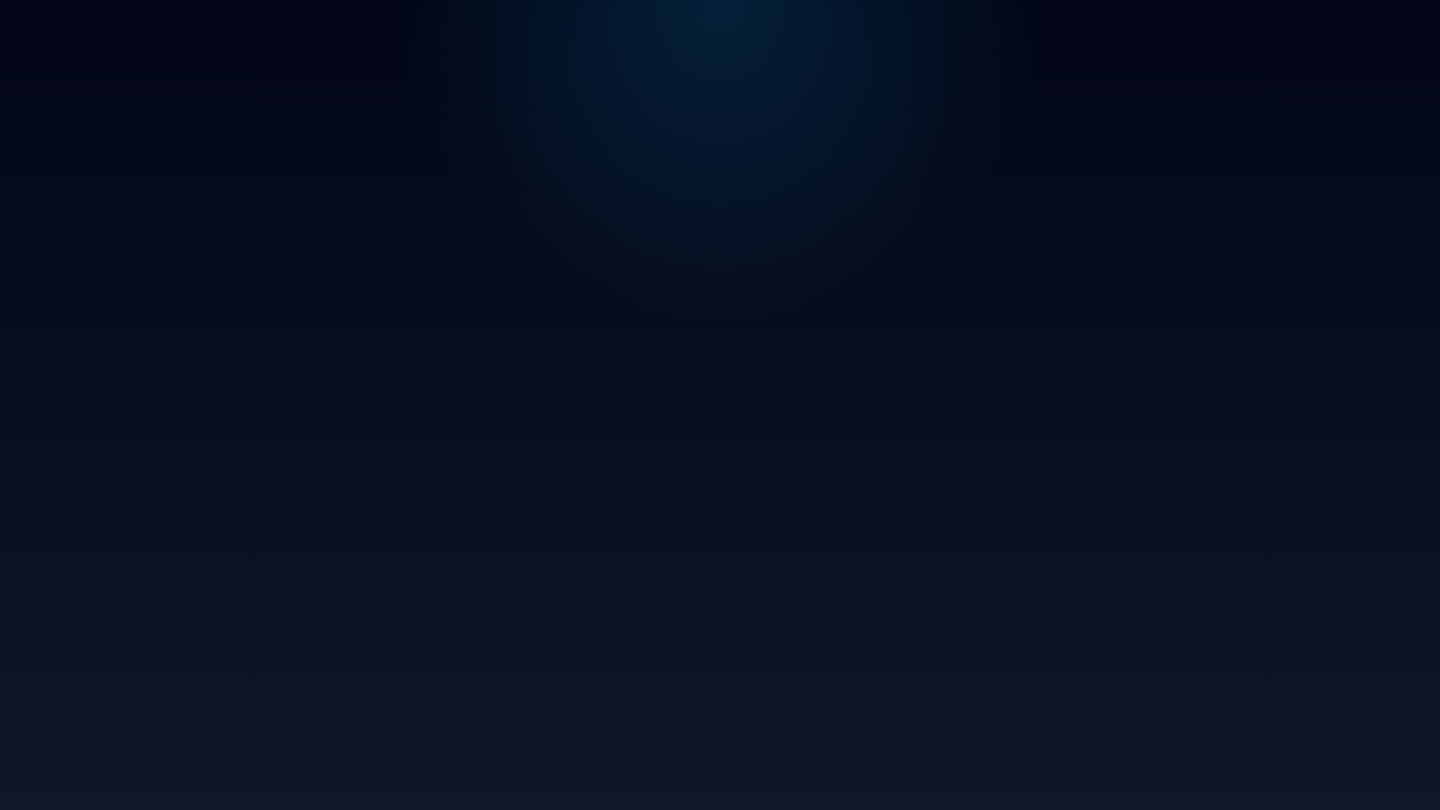
Scenario: CommandPalette › filters commands when typing in the search input
This screenshot has width=1440, height=810.
Type keys "{Meta>}k{/Meta}"
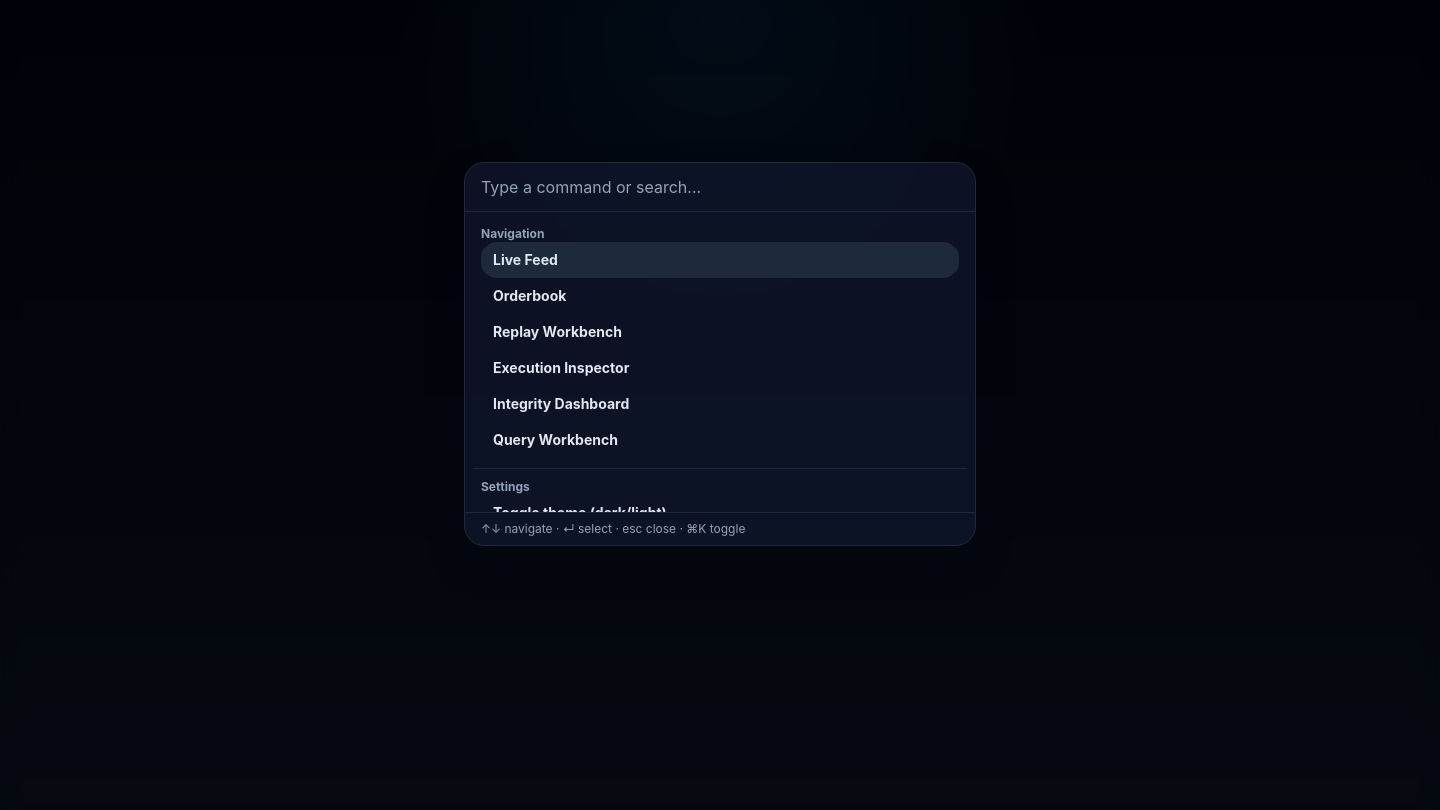
Result: the option "Live Feed" is shown at [481,242,959,278]
Result: the option "Orderbook" is shown at [493,287,566,304]
// Type a filter term — cmdk filters based on the item text content
Type "Orderbook" into the dropdown with placeholder "Type a command or search..." at (720, 188), box [465,163,975,212]
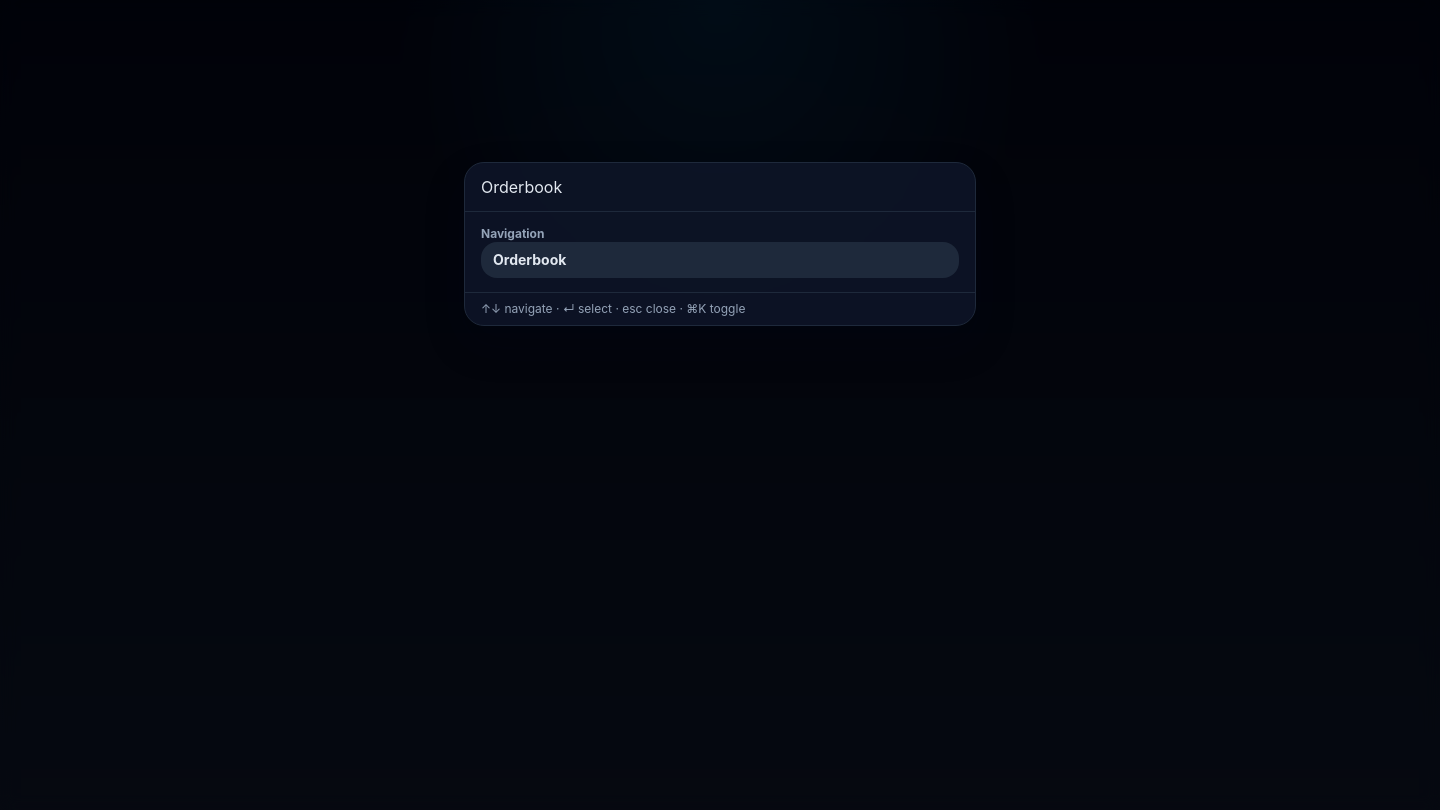
Result: the option "Orderbook" is shown at [481,242,959,278]
Result: the option "Live Feed" is gone
Result: the option "Replay Workbench" is gone
